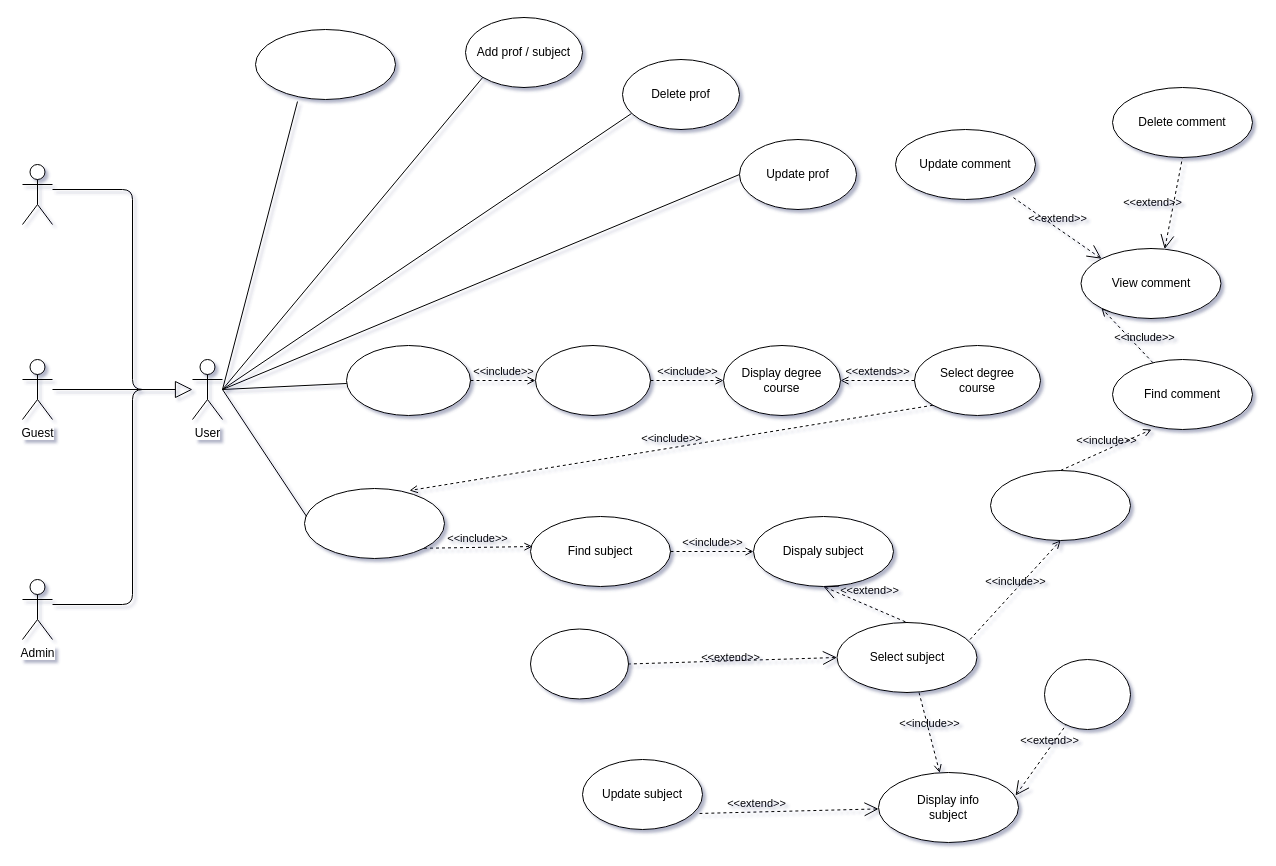
Some shapes in this 1276 by 866 pixel diagram are drawn without their labels. The centre of each missing label's shape, as x and y in pixels:
Add comment: point 579,663
Browse comments: point 1060,505
Browse degree courses: point 408,380
Browse subjects: point 374,523
Delete subject: point 1087,694
Find degree course: point 592,380
login/logout: point 325,64
Student: point 37,194
